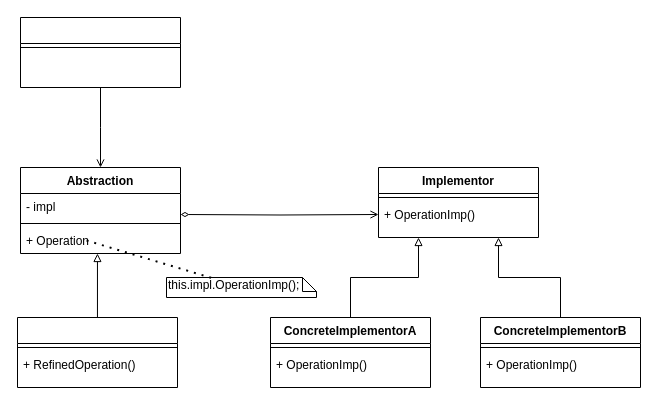
The diagram is 658 pixels wide and 405 high, and some of its shapes have lost their labels. Each missing label, with the box of its shape:
Client: (20, 16, 180, 88)
RefinedAbstraction: (16, 316, 178, 388)
